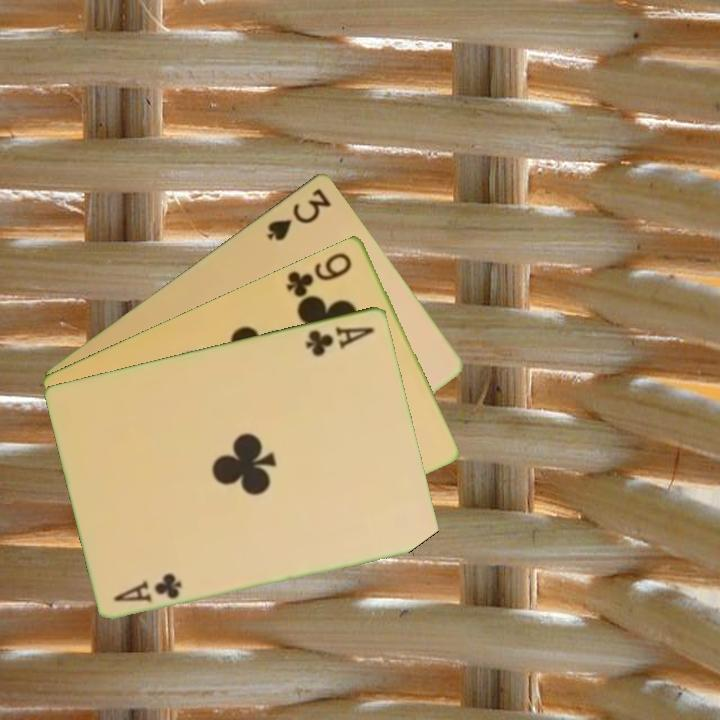3s: (263, 184, 335, 244)
9c: (282, 248, 355, 300)
Ac: (302, 322, 378, 359), (110, 570, 185, 605)
